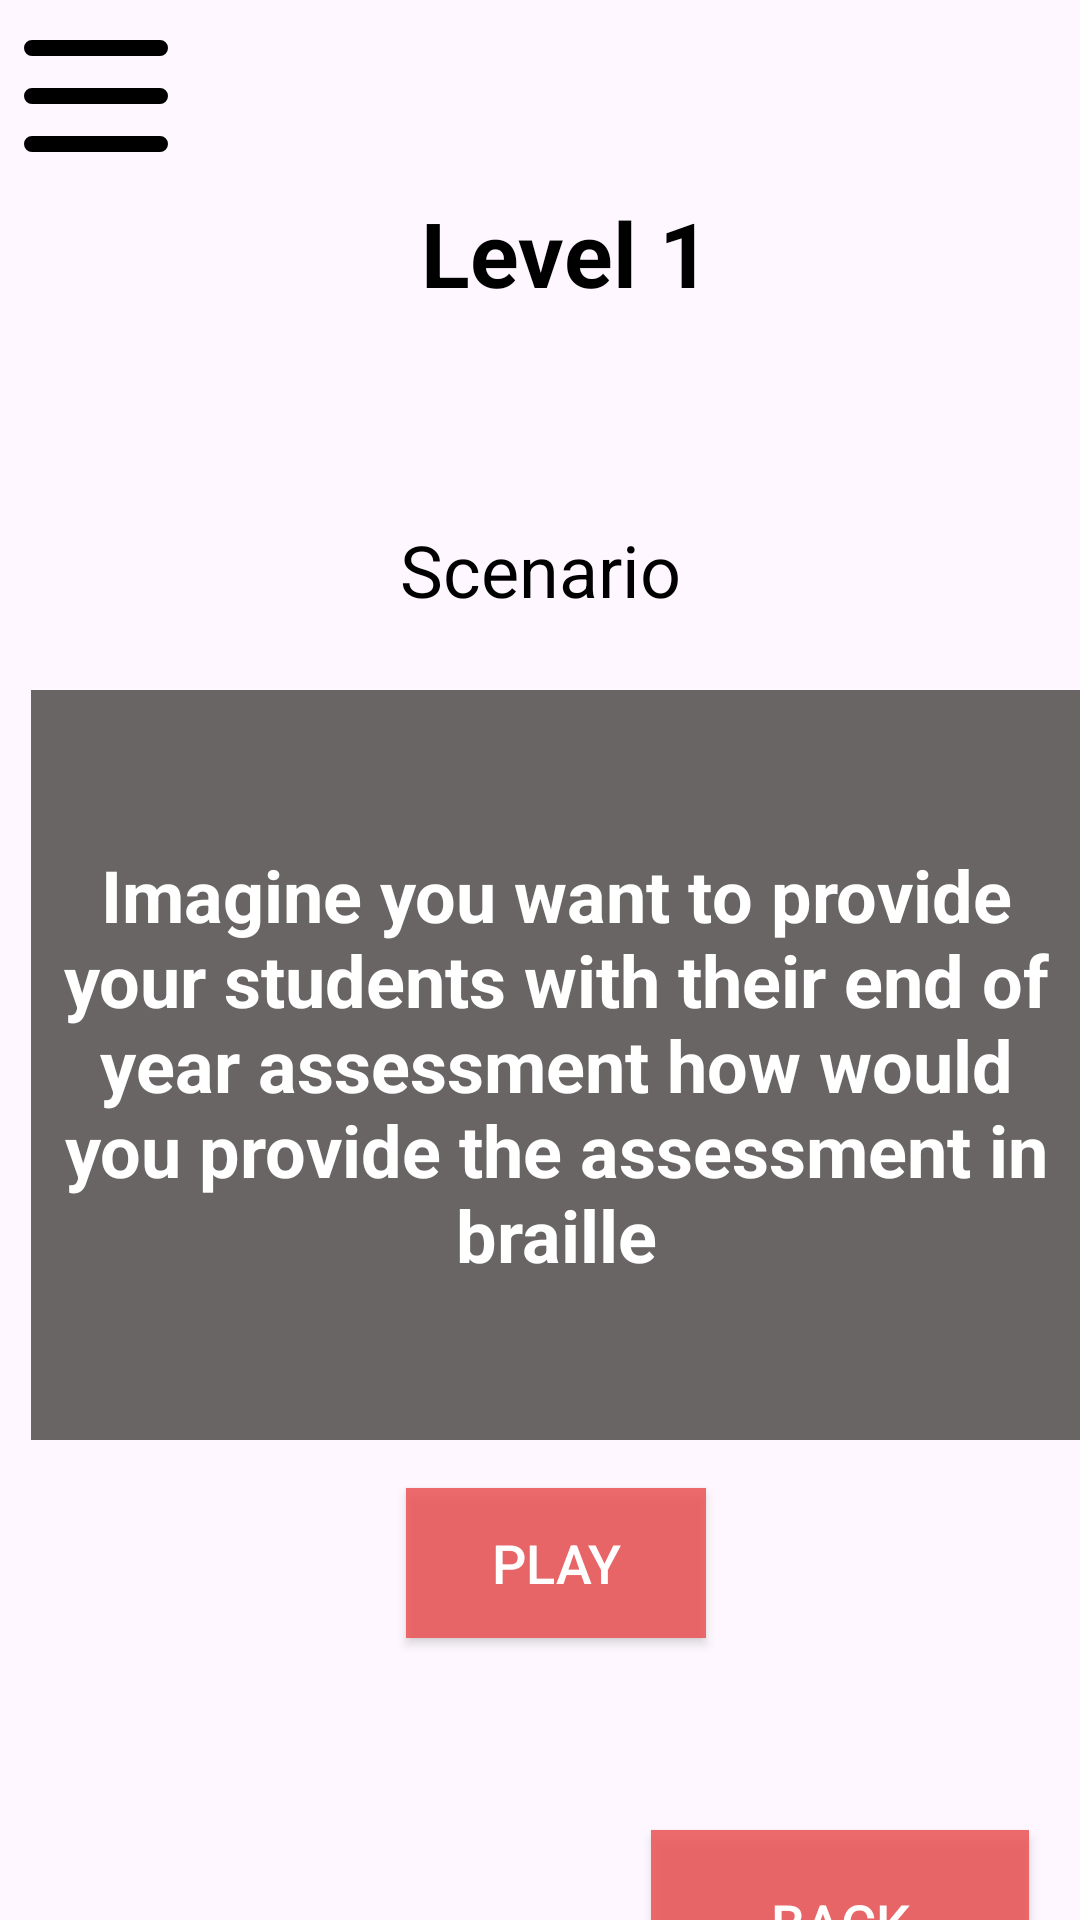

Icons on this 1080x1920 Android screen, each with the point to tap as (x,y):
menu: (96,96)
